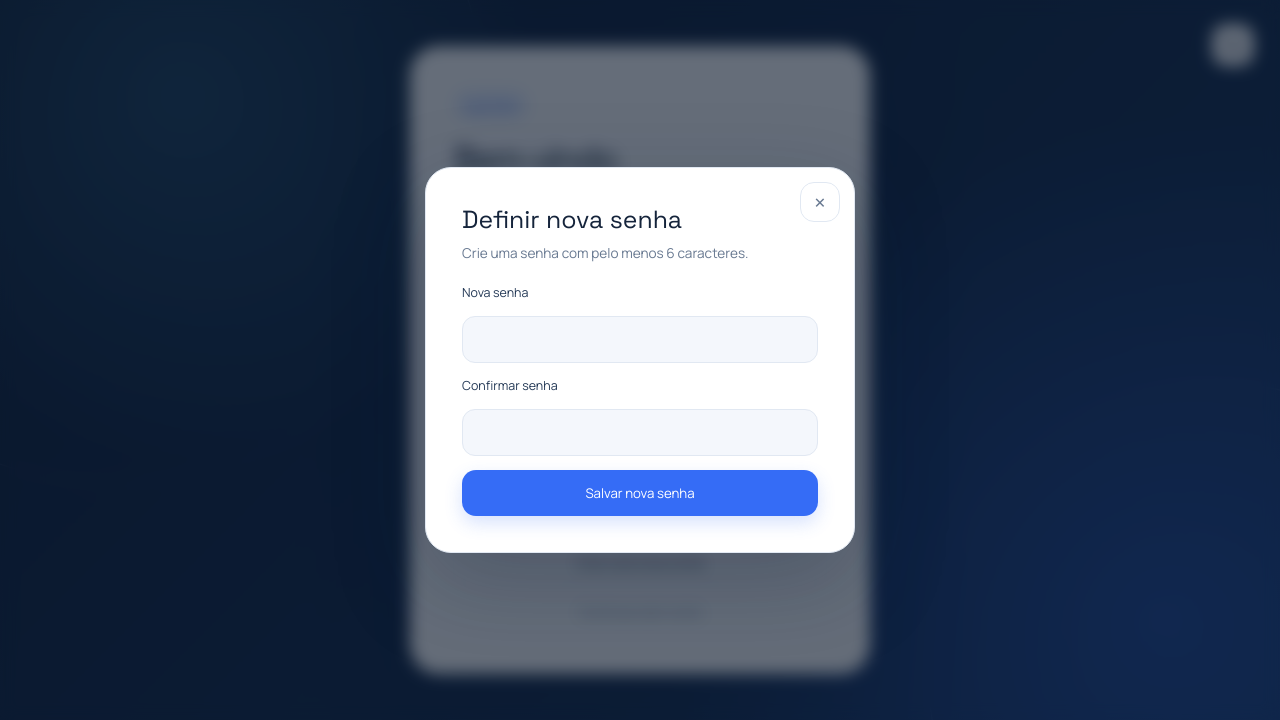
Test: recuperação de senha › abre o token da URL e remove somente esse parâmetro do endereço
This screenshot has width=1280, height=720.
Expected: the dialog "Definir nova senha" is shown, [425,167,855,553]
Type "senhaNova123" into the password field labelled "Nova senha". click: (640, 339)
box: [462,316,818,363]
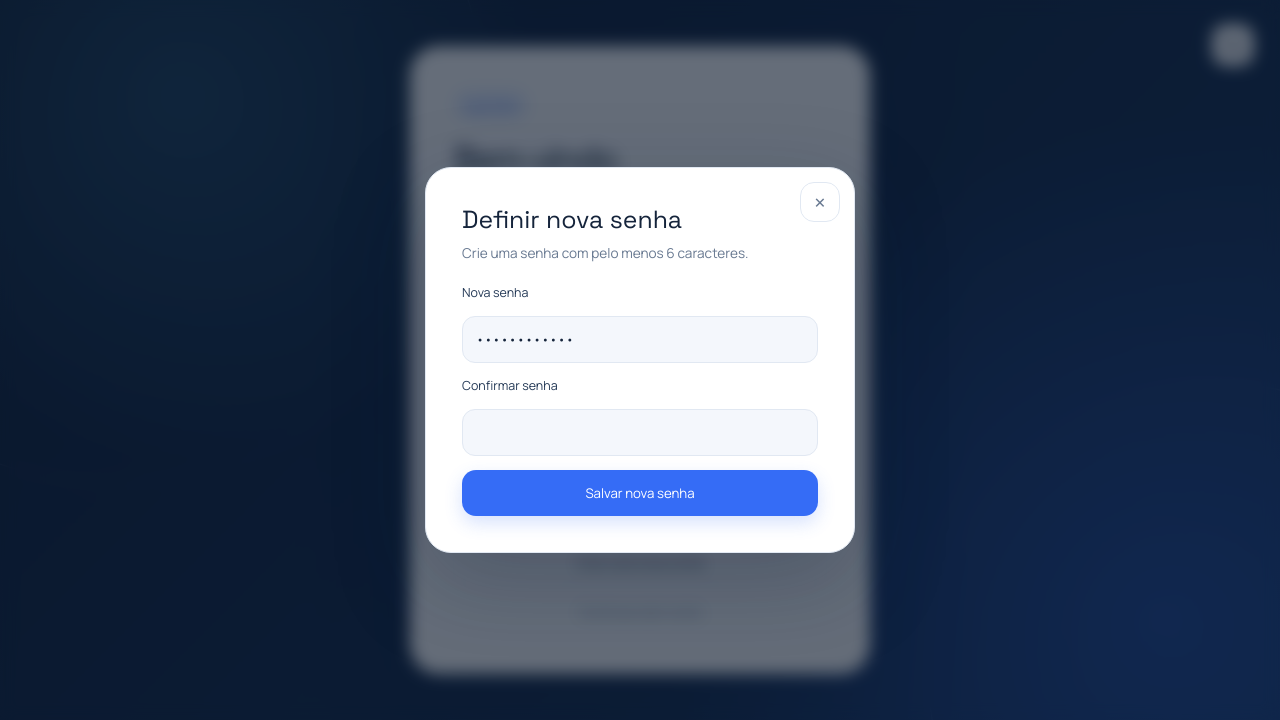
Type "senhaNova123" into the password field labelled "Confirmar senha". click: (640, 432)
box: [462,409,818,456]
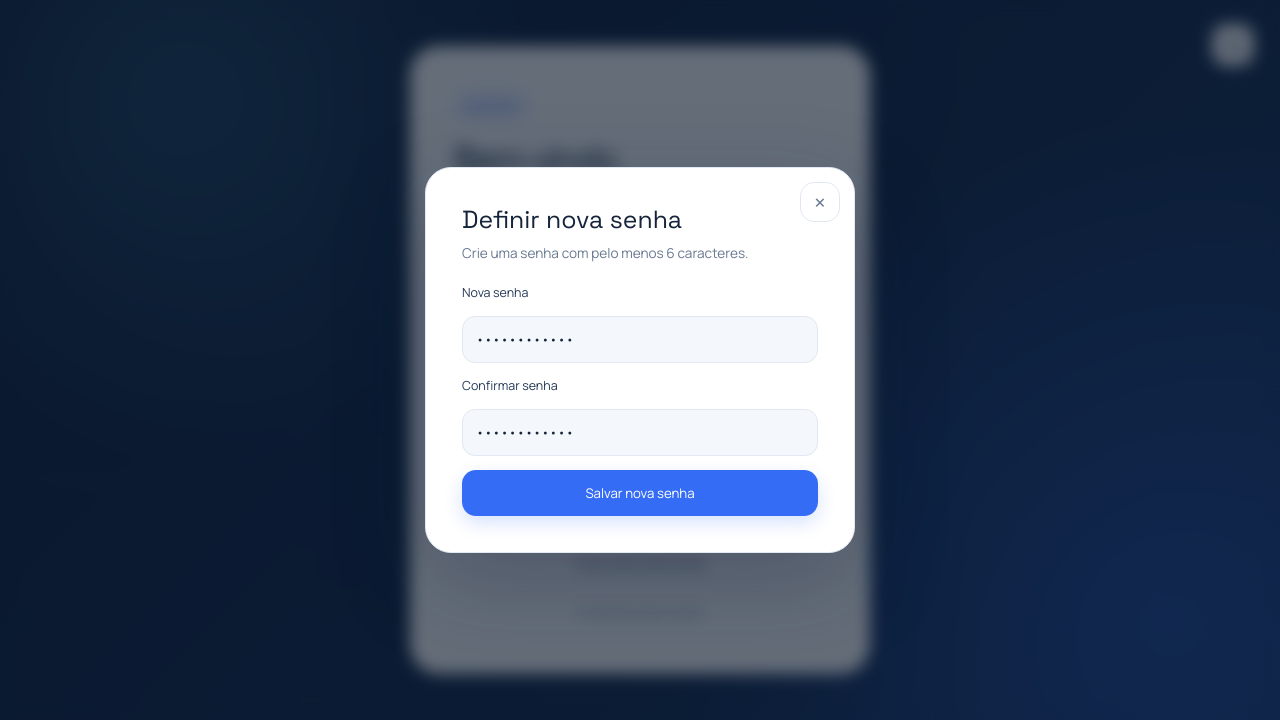
Click the button "Salvar nova senha". click: (640, 493)
box: [462,470,818,516]
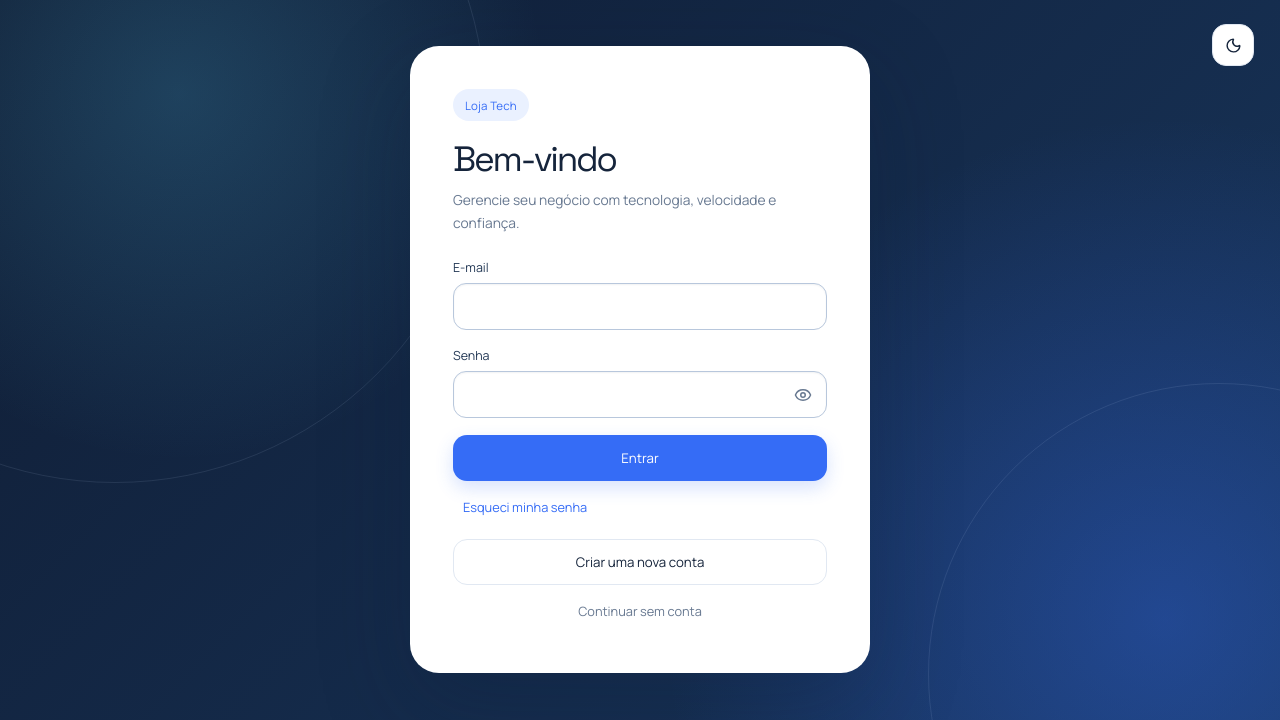
Now the dialog is gone
